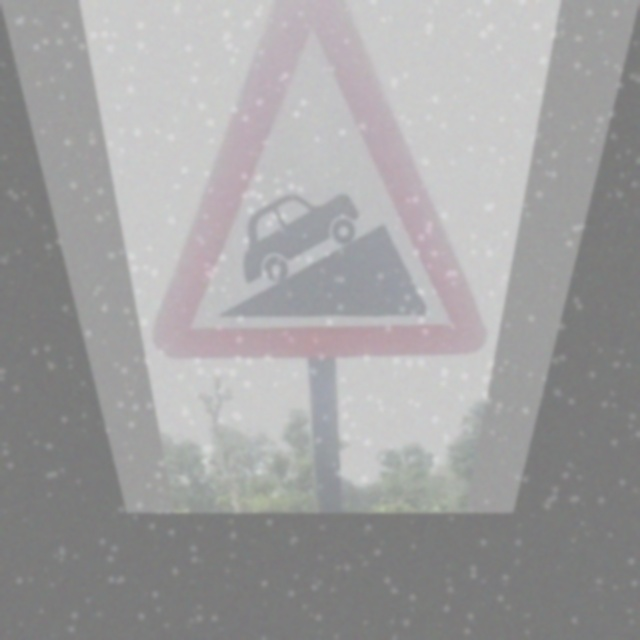Steep_Ascent: (142, 57, 494, 347)
